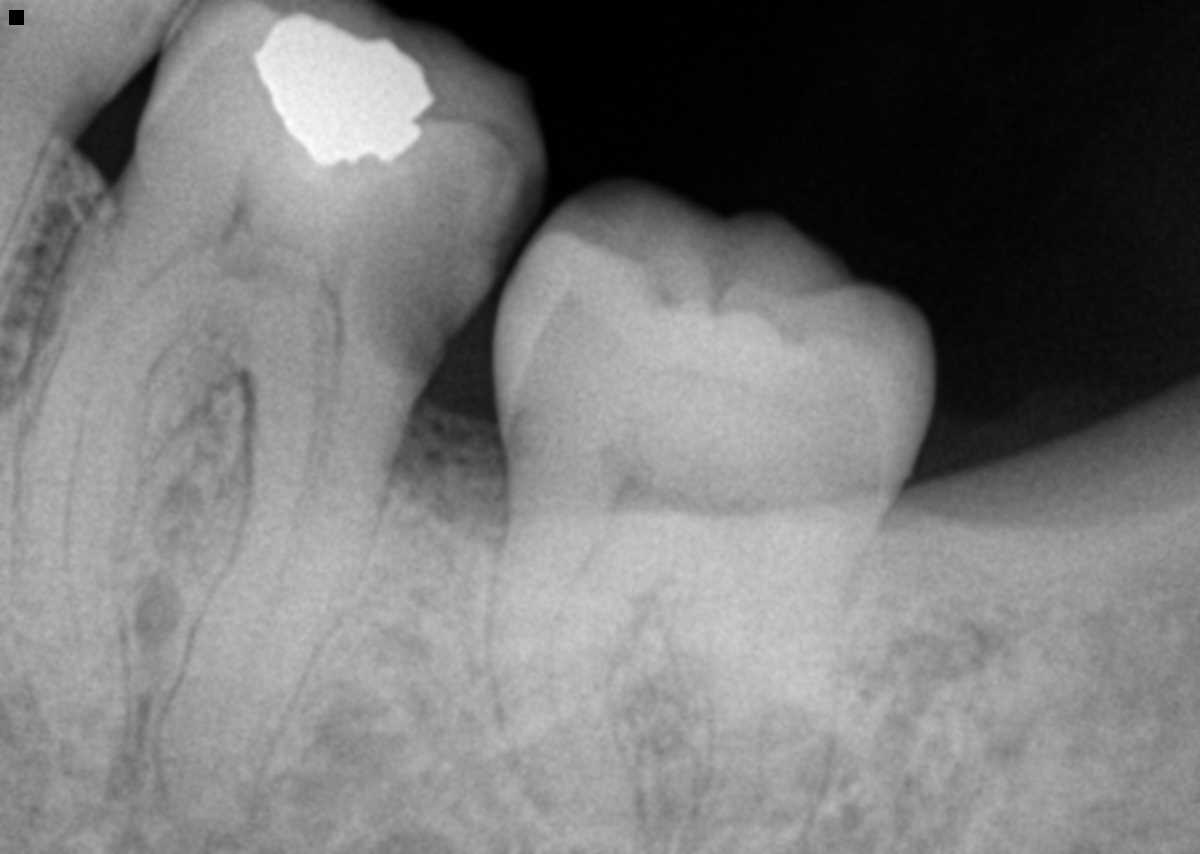Distal Canal: (263, 374, 343, 647)
Distal Root: (147, 362, 417, 854), (669, 599, 842, 854)
Main Root: (0, 109, 73, 312)
Mesial Canal: (550, 553, 604, 792)
Mesial Root: (11, 203, 238, 814), (484, 526, 654, 850)
decay: (338, 147, 515, 373)
